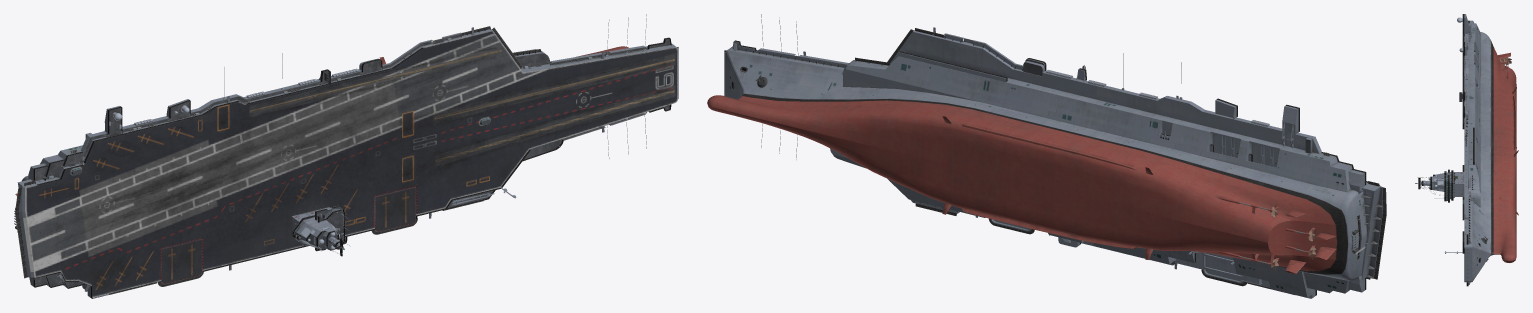
Rendered from AirCraft.obj.
3 renders of one model, left to right at view 1: azimuth 30°, elevation 25°; view 2: azimuth 150°, elevation 25°; view 3: azimuth 270°, elevation 25°, orthographic. The views are drawn at different scales.
Visible parts, largest first — view 1: Object_2, Object_3; view 2: Object_2, Object_3; view 3: Object_2, Object_3.
Boxes of the visible parts, x1,y1,x2,y2 form: Object_2: (14, 14, 678, 298); Object_3: (15, 26, 678, 298); Object_2: (707, 14, 1382, 298); Object_3: (724, 28, 1386, 295); Object_2: (1415, 14, 1518, 285); Object_3: (1418, 14, 1477, 286).
Size of the model in its own units: 33.45 by 10.1 by 6.86.
Materials: 2 (2 with a texture image).
